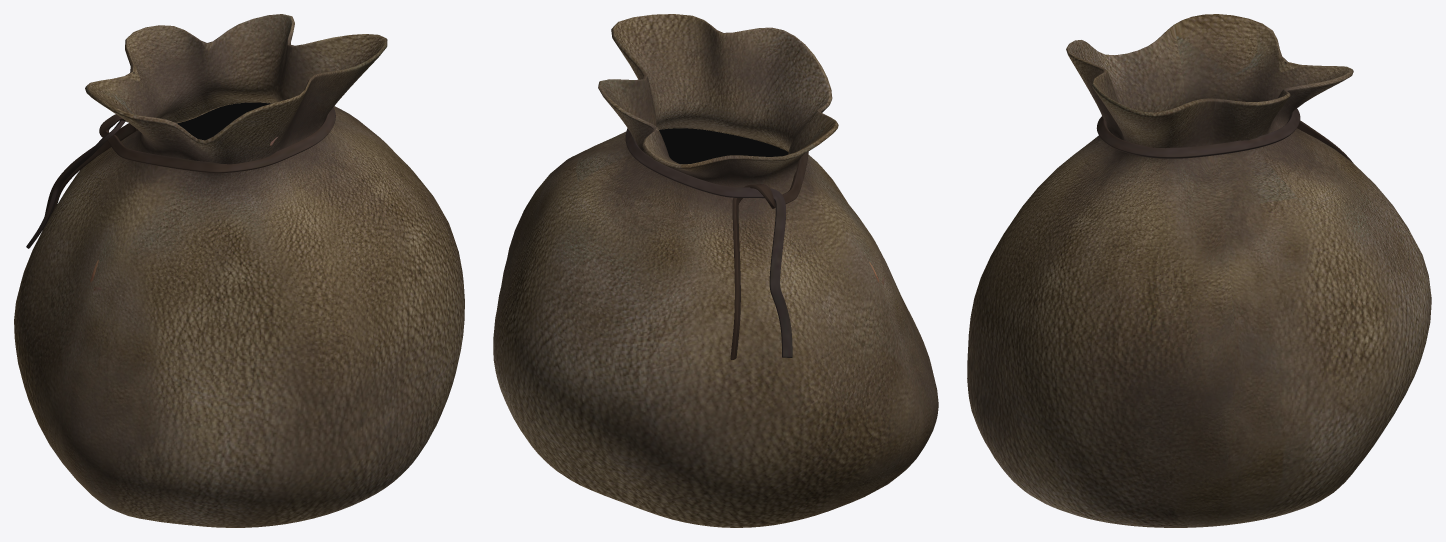
File: bag.fbx
3 views of the same model, side by side, from view 1: azimuth 30°, elevation 25°; view 2: azimuth 150°, elevation 25°; view 3: azimuth 270°, elevation 25° (orthographic). The views are drawn at different scales.
Parts seen in each view (by area): view 1: 13450_Bag_of_Gold; view 2: 13450_Bag_of_Gold; view 3: 13450_Bag_of_Gold.
Part boxes in pixels (box(x1,y1,x2,y2)): 13450_Bag_of_Gold: box(14, 14, 464, 527); 13450_Bag_of_Gold: box(493, 14, 938, 527); 13450_Bag_of_Gold: box(967, 14, 1431, 527).
Size of the model in its own units: 221 by 228 by 219.
